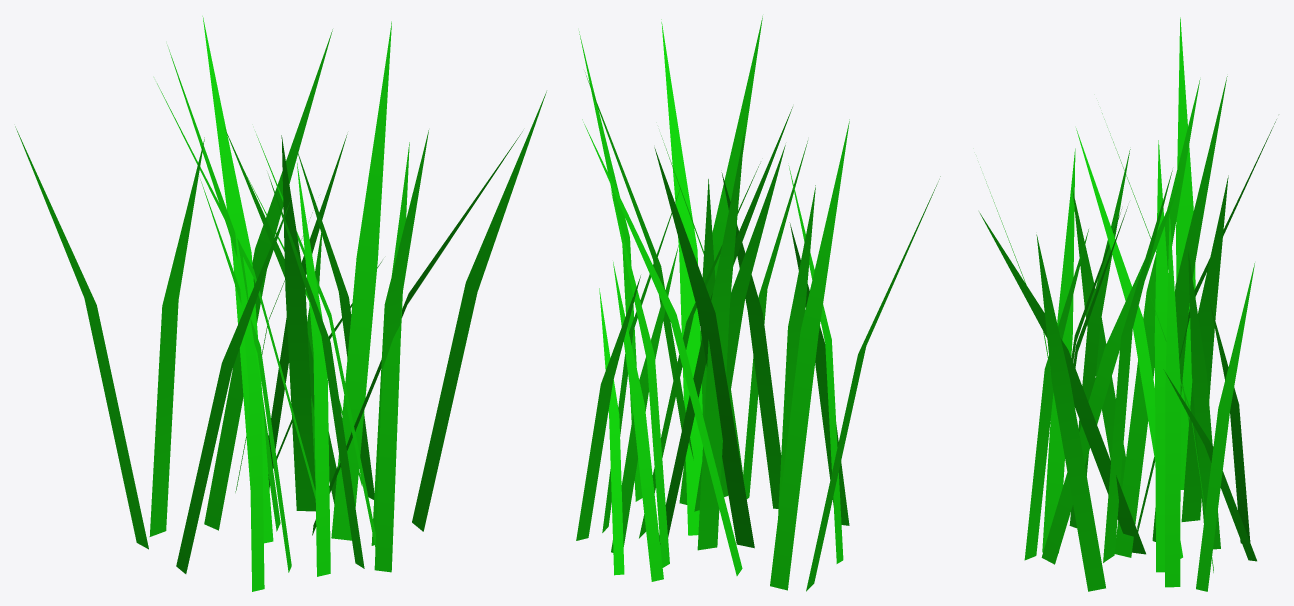
The model's file is Grass_002.fbx.
3 renders of one model, left to right at view 1: azimuth 30°, elevation 25°; view 2: azimuth 150°, elevation 25°; view 3: azimuth 270°, elevation 25°, orthographic. The views are drawn at different scales.
Visible parts, largest first — view 1: Grass.002; view 2: Grass.002; view 3: Grass.002.
Boxes of the visible parts, bbox=[...] form: Grass.002: bbox=[15, 16, 546, 591]; Grass.002: bbox=[576, 16, 940, 591]; Grass.002: bbox=[979, 17, 1276, 591].
Bounding box in the file's own units: 219 × 221 × 142.
